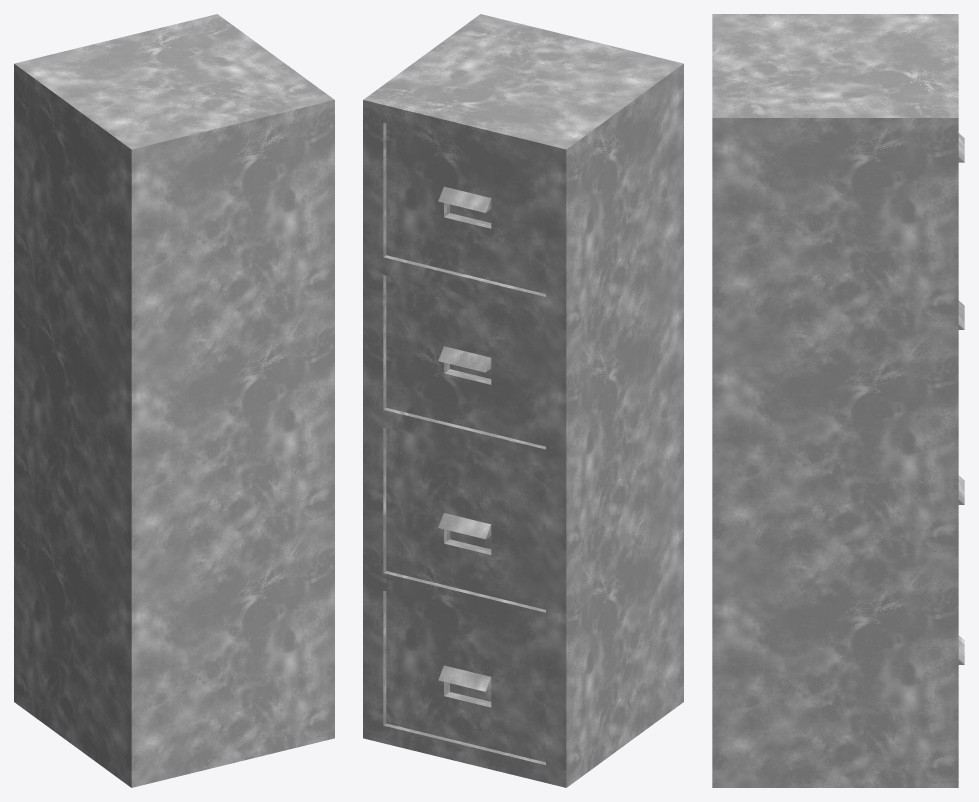
File: FileCabinet.fbx
The picture shows the model from 3 angles, left to right: view 1: azimuth 30°, elevation 25°; view 2: azimuth 150°, elevation 25°; view 3: azimuth 270°, elevation 25°; orthographic projection. The views are drawn at different scales.
Visible parts, largest first — view 1: Cube; view 2: Cube; view 3: Cube.
Boxes of the visible parts, x1,y1,x2,y2 form: Cube: (14, 14, 334, 787); Cube: (363, 14, 683, 787); Cube: (712, 14, 964, 787).
Bounding box in the file's own units: 200 × 600 × 205.
